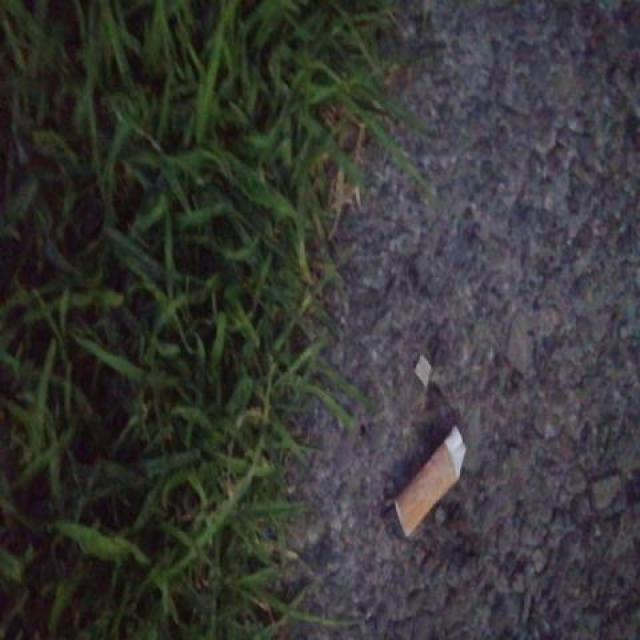non-organic waste: (389, 422, 471, 543)
